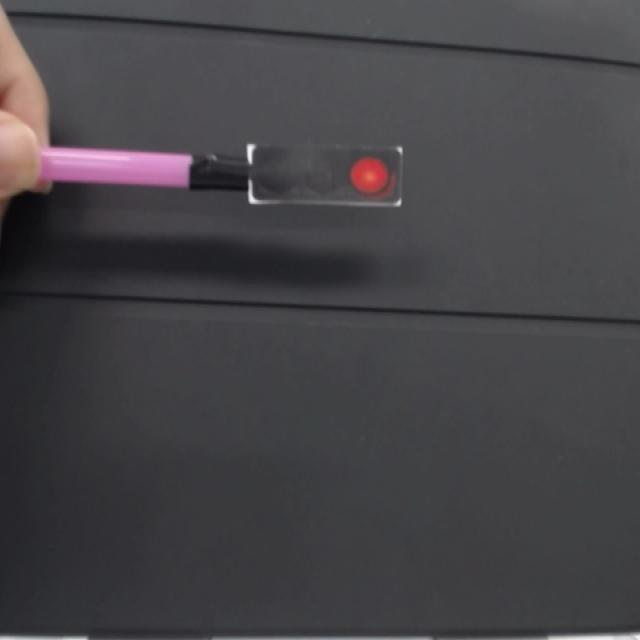traffic light: (247, 145, 405, 213)
